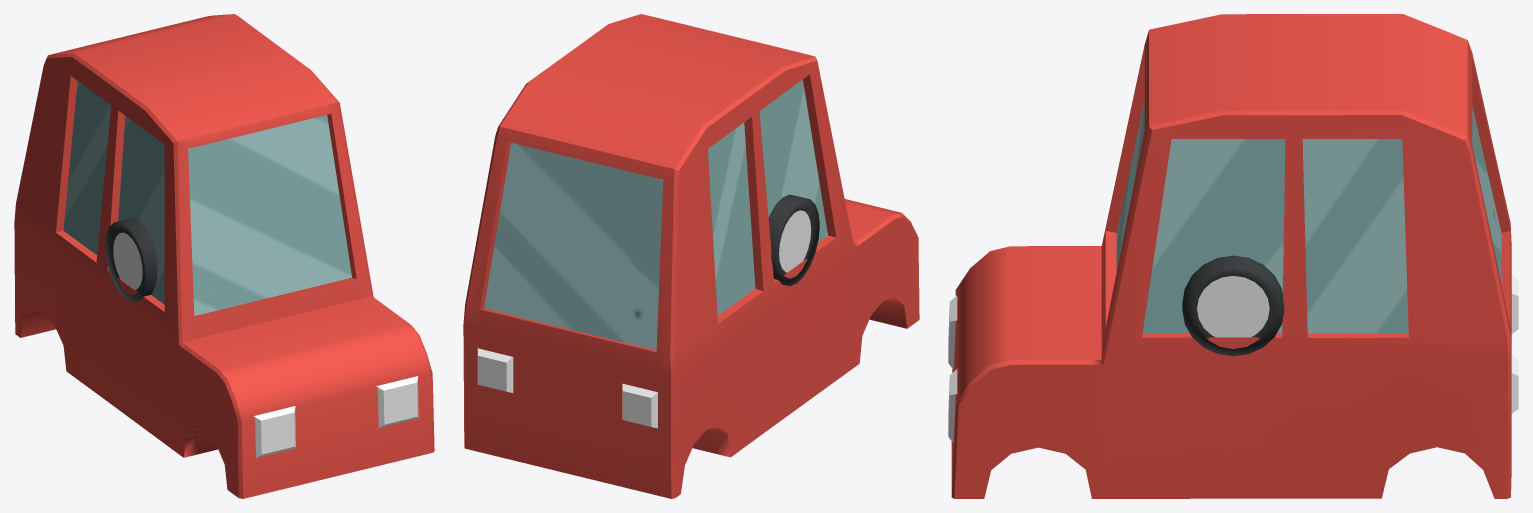
The model's file is car_1_R.fbx.
The picture shows the model from 3 angles, left to right: view 1: azimuth 30°, elevation 25°; view 2: azimuth 150°, elevation 25°; view 3: azimuth 270°, elevation 25°; orthographic projection. The views are drawn at different scales.
Parts seen in each view (by area): view 1: car_1_chasis_R, car_1_right_wheel_R, car_1_back_wheel_R; view 2: car_1_chasis_R, car_1_right_wheel_R, car_1_back_wheel_R; view 3: car_1_chasis_R, car_1_back_wheel_R.
Boxes of the visible parts, <box> form: car_1_chasis_R: <box>14,14,434,498</box>; car_1_right_wheel_R: <box>105,219,157,302</box>; car_1_back_wheel_R: <box>117,218,156,301</box>; car_1_chasis_R: <box>463,14,919,498</box>; car_1_right_wheel_R: <box>769,194,819,286</box>; car_1_back_wheel_R: <box>768,195,797,276</box>; car_1_chasis_R: <box>948,14,1518,498</box>; car_1_back_wheel_R: <box>1182,255,1284,356</box>.
Size of the model in its own units: 76.29 by 115 by 157.
